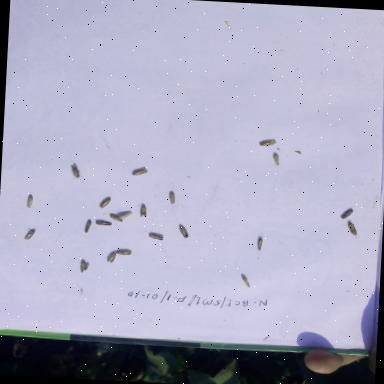pbw: (136, 204, 148, 218), (116, 210, 132, 220), (132, 166, 148, 176), (340, 208, 354, 219), (99, 196, 111, 208), (178, 225, 189, 238), (259, 138, 276, 146), (108, 214, 124, 222), (24, 228, 34, 240), (240, 276, 250, 288), (106, 252, 116, 264), (257, 234, 263, 251), (272, 154, 280, 166), (168, 192, 176, 204), (116, 250, 132, 256), (148, 234, 164, 240), (26, 195, 33, 208), (84, 220, 91, 233), (95, 220, 112, 225), (79, 260, 86, 272)
